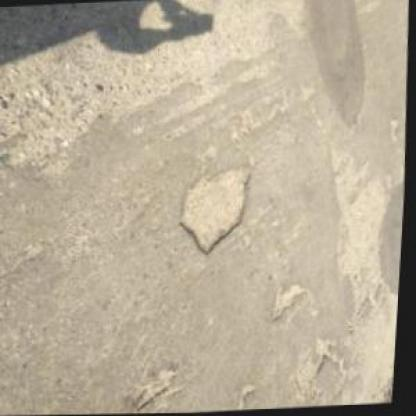pothole: (175, 161, 259, 259), (136, 369, 184, 413), (270, 282, 310, 324), (314, 334, 342, 376)
